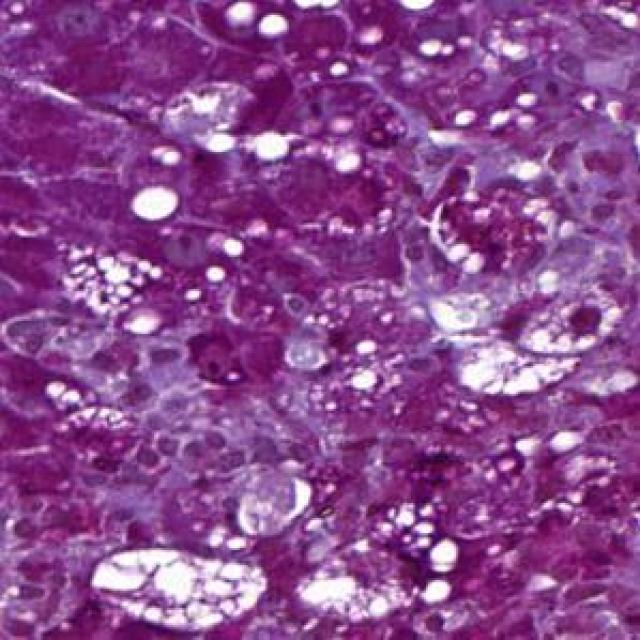ballooning: (422, 280, 627, 404), (83, 542, 272, 634)
